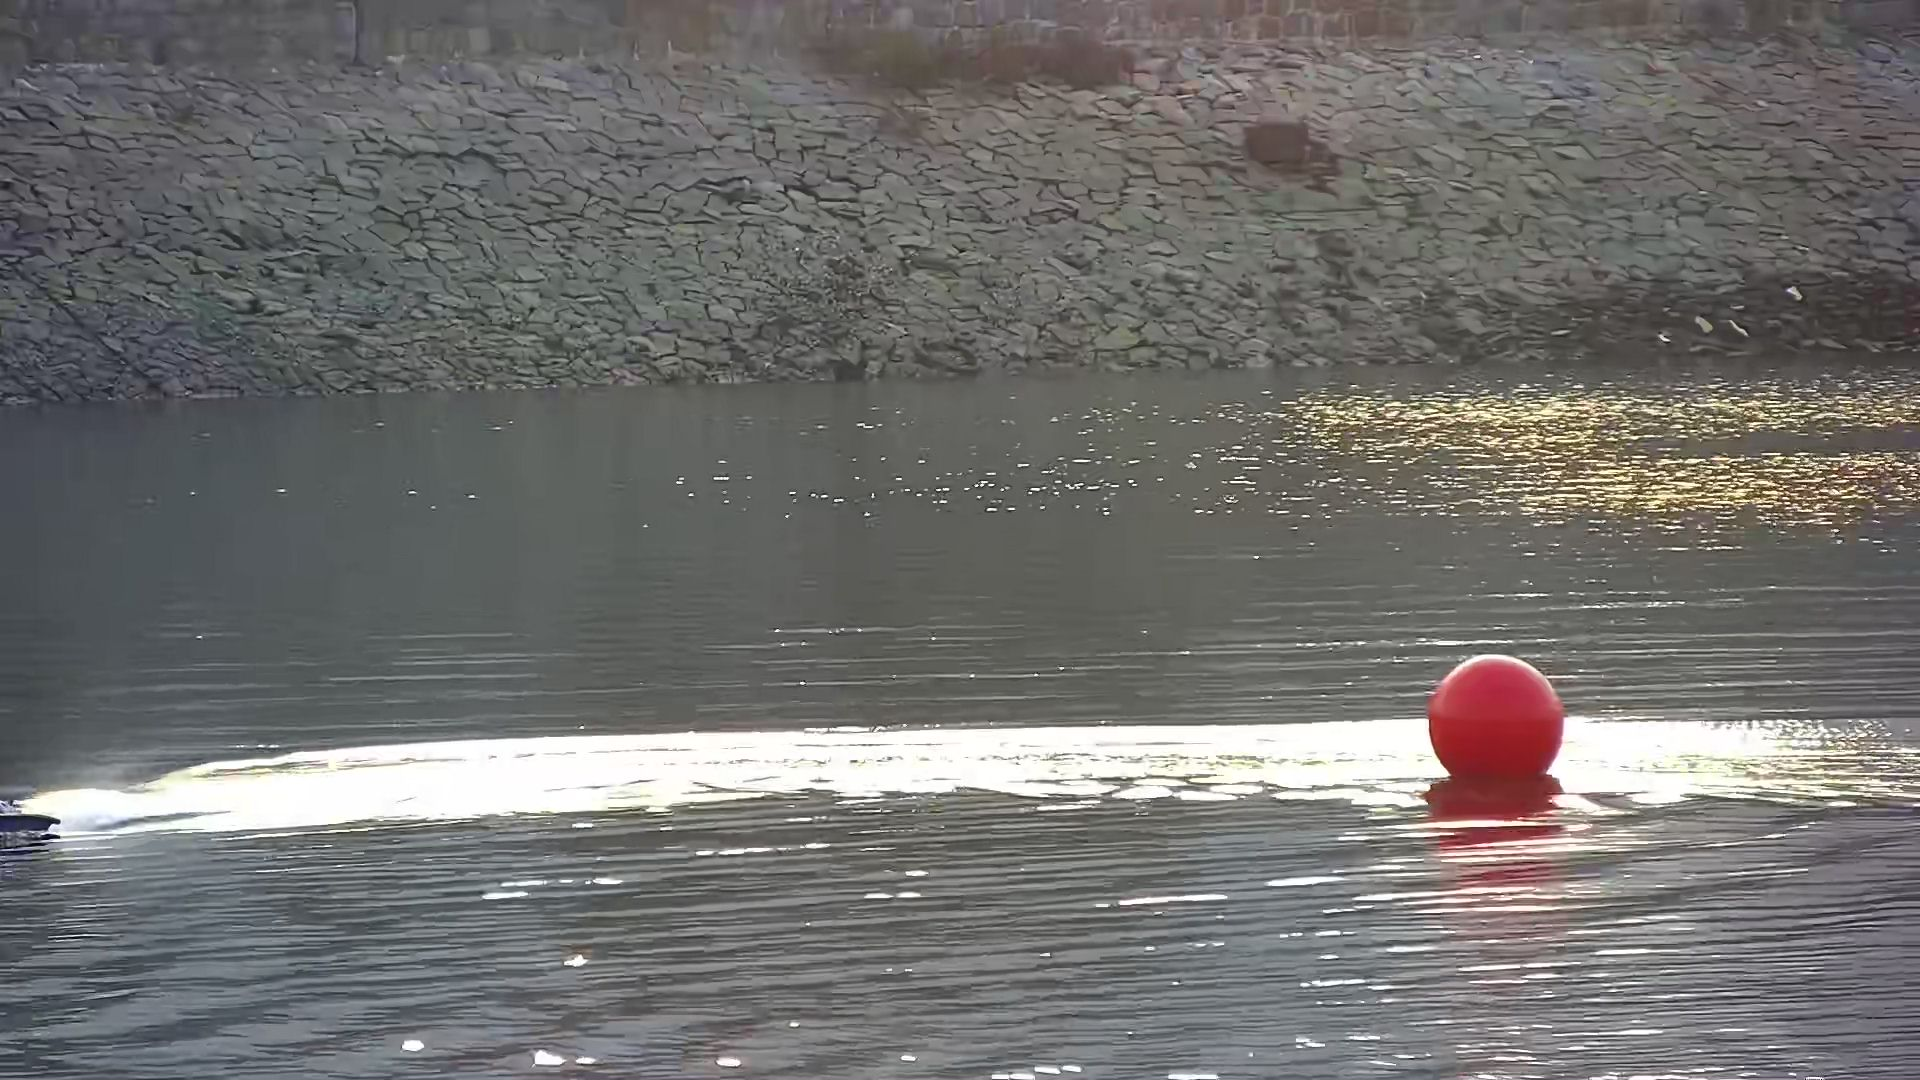ball: (1428, 653, 1568, 791)
